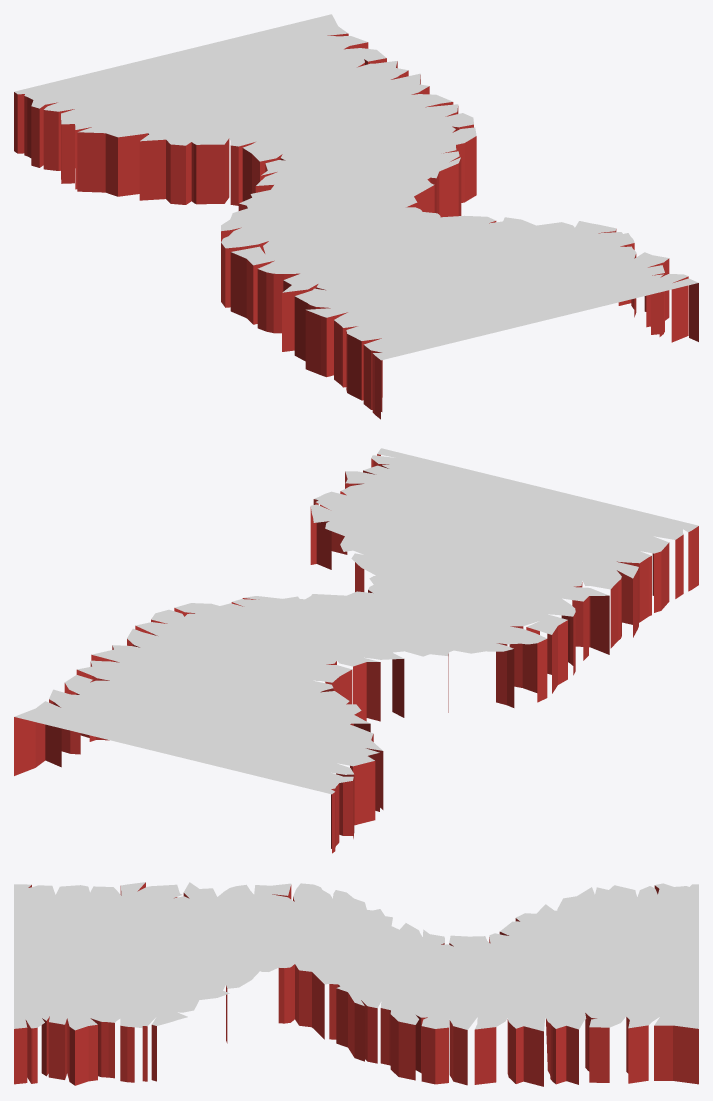
3 views of the same model, one above another, from view 1: azimuth 30°, elevation 25°; view 2: azimuth 150°, elevation 25°; view 3: azimuth 270°, elevation 25° (orthographic). The views are drawn at different scales.
Visible parts, largest first — view 1: r; view 2: r; view 3: r.
Part boxes in pixels (left/top/right/bottom): r: left=14, top=14, right=698, bottom=419; r: left=14, top=448, right=698, bottom=853; r: left=14, top=882, right=698, bottom=1086.
Bounding box in the file's own units: 2892 × 500 × 5600.
